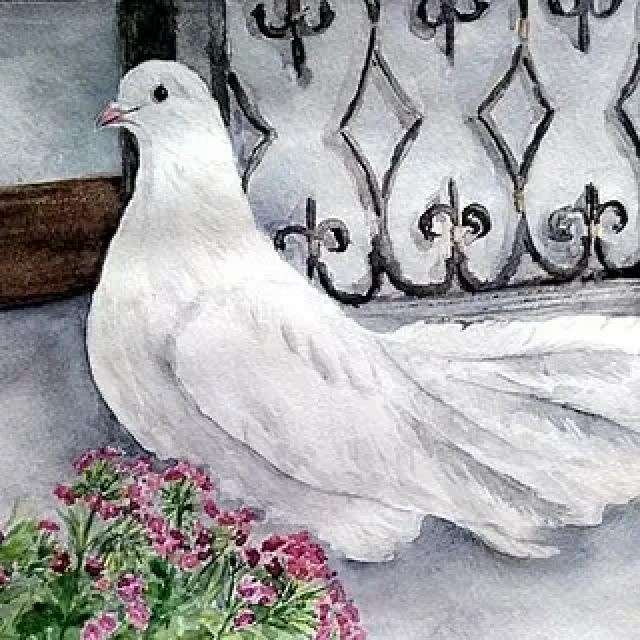pigeon: (80, 46, 640, 568)
